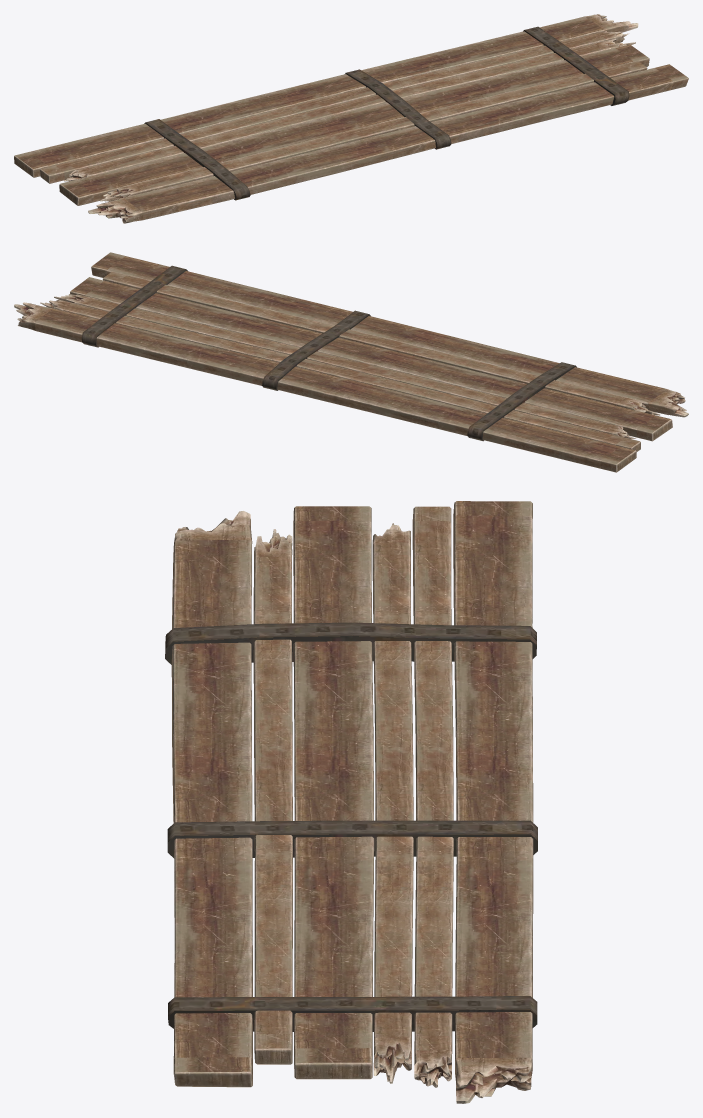
3 views of the same model, one above another, from view 1: azimuth 30°, elevation 25°; view 2: azimuth 150°, elevation 25°; view 3: azimuth 270°, elevation 25° (orthographic). The views are drawn at different scales.
Parts seen in each view (by area): view 1: SM_Planks_8m_01_LOD0; view 2: SM_Planks_8m_01_LOD0; view 3: SM_Planks_8m_01_LOD0.
Part boxes in pixels (x1=…): SM_Planks_8m_01_LOD0: x1=14, y1=14, x2=688, y2=223; SM_Planks_8m_01_LOD0: x1=14, y1=252, x2=688, y2=472; SM_Planks_8m_01_LOD0: x1=165, y1=501, x2=537, y2=1103.
Size of the model in its own units: 9.87 by 0.2201 by 2.62.
2 materials, 2 textured.
